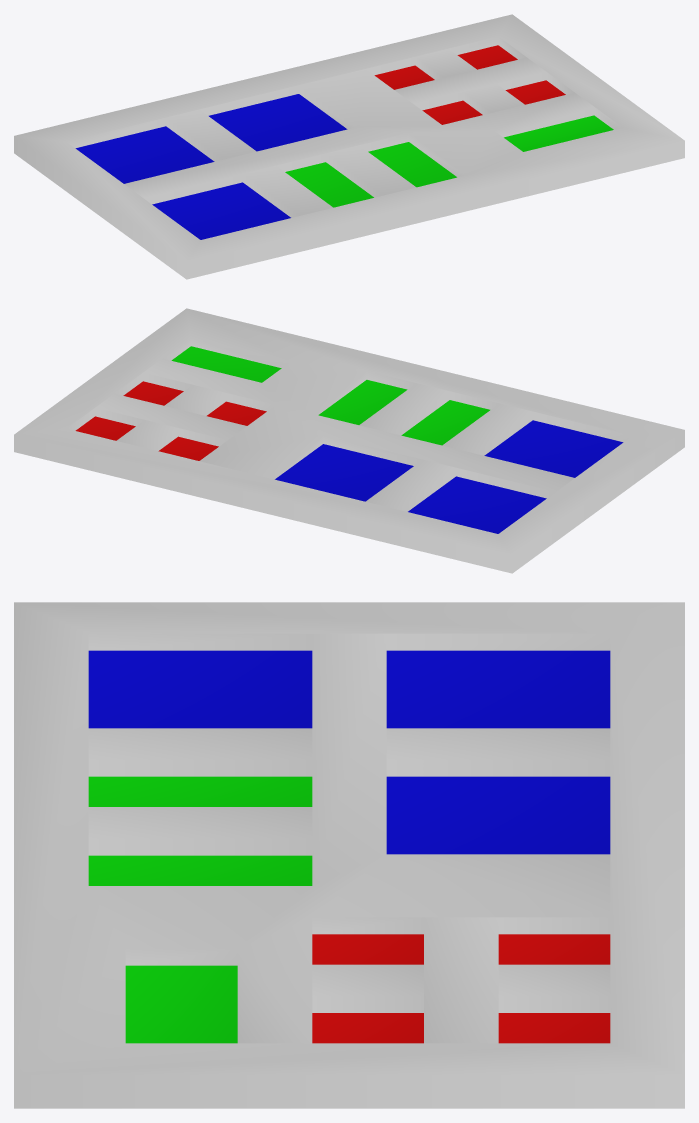
The model's file is Kit1.fbx.
3 views of the same model, one above another, from view 1: azimuth 30°, elevation 25°; view 2: azimuth 150°, elevation 25°; view 3: azimuth 270°, elevation 25° (orthographic). The views are drawn at different scales.
Visible parts, largest first — view 1: Plane; view 2: Plane; view 3: Plane.
Boxes of the visible parts, x1=… form: Plane: x1=14, y1=14, x2=684, y2=279; Plane: x1=14, y1=308, x2=684, y2=573; Plane: x1=14, y1=602, x2=684, y2=1108.
Bounding box in the file's own units: 191 × 6.35 × 114.
